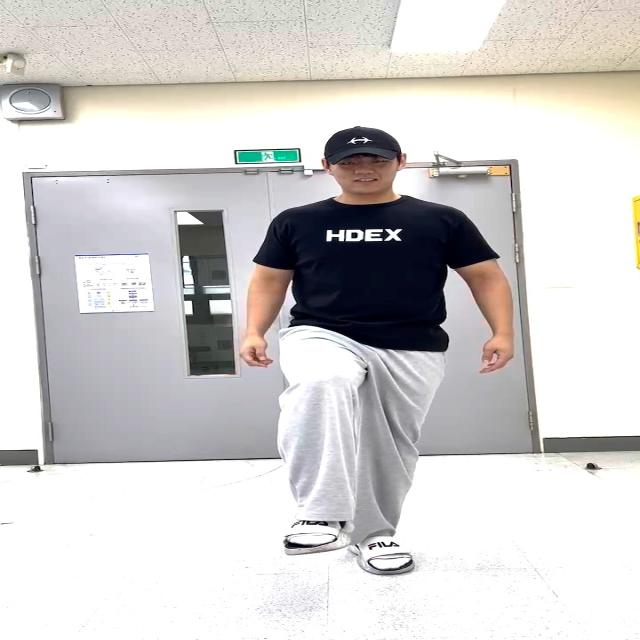leg: (273, 329, 359, 544)
